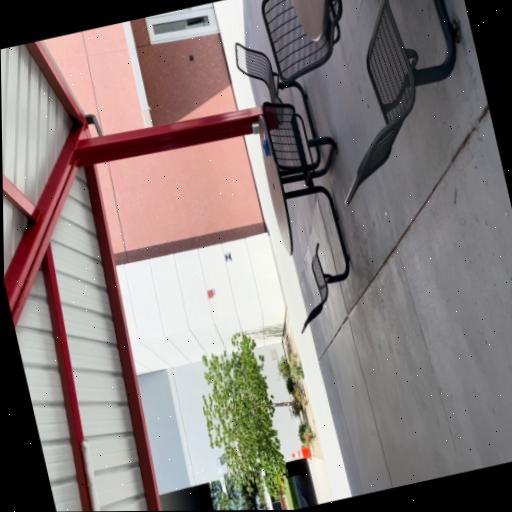target9: (223, 249, 232, 262)
